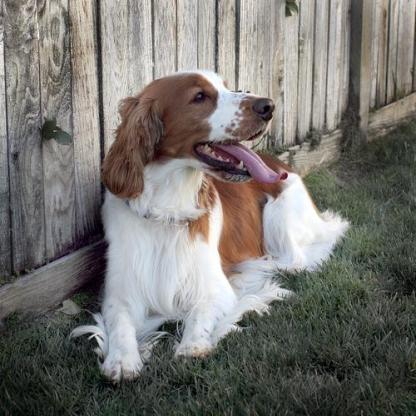Welsh_springer_spaniel: (64, 67, 350, 385)
